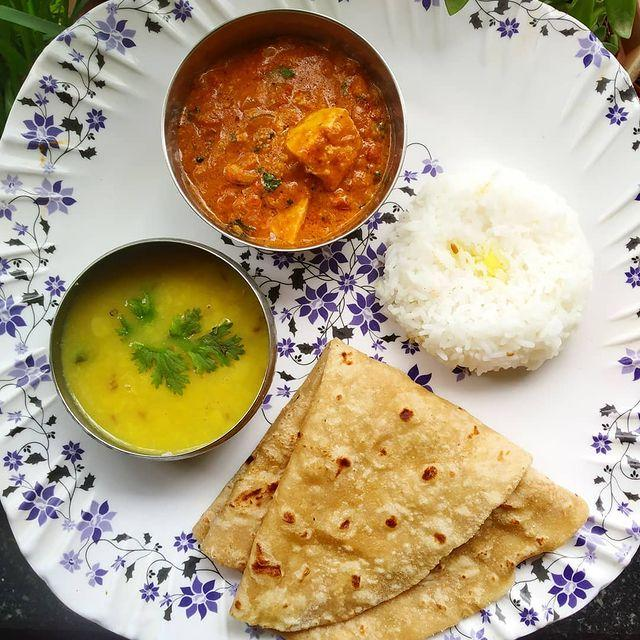Roti: (208, 334, 562, 640)
White Rice: (388, 159, 598, 387)
